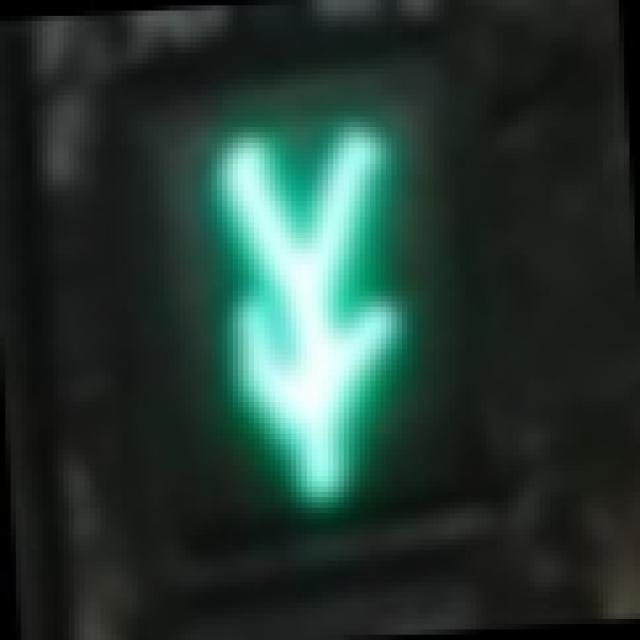green_light: (143, 90, 476, 534)
